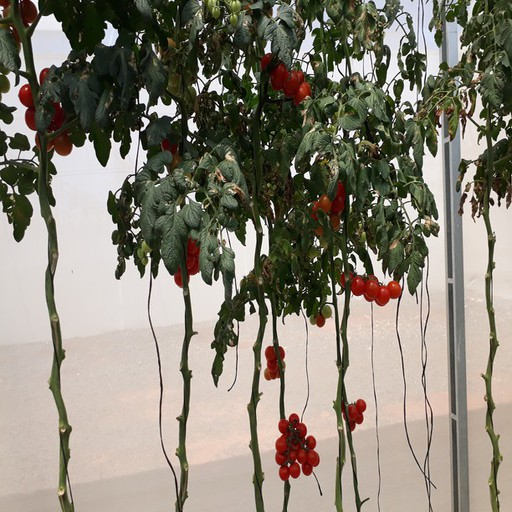mixed tomato bunch: (304, 299, 332, 325)
red tomato bunch: (20, 67, 74, 156), (276, 413, 321, 480), (261, 51, 310, 107), (336, 269, 401, 304), (311, 181, 345, 236), (149, 127, 182, 169), (265, 344, 286, 383), (344, 399, 365, 432)
